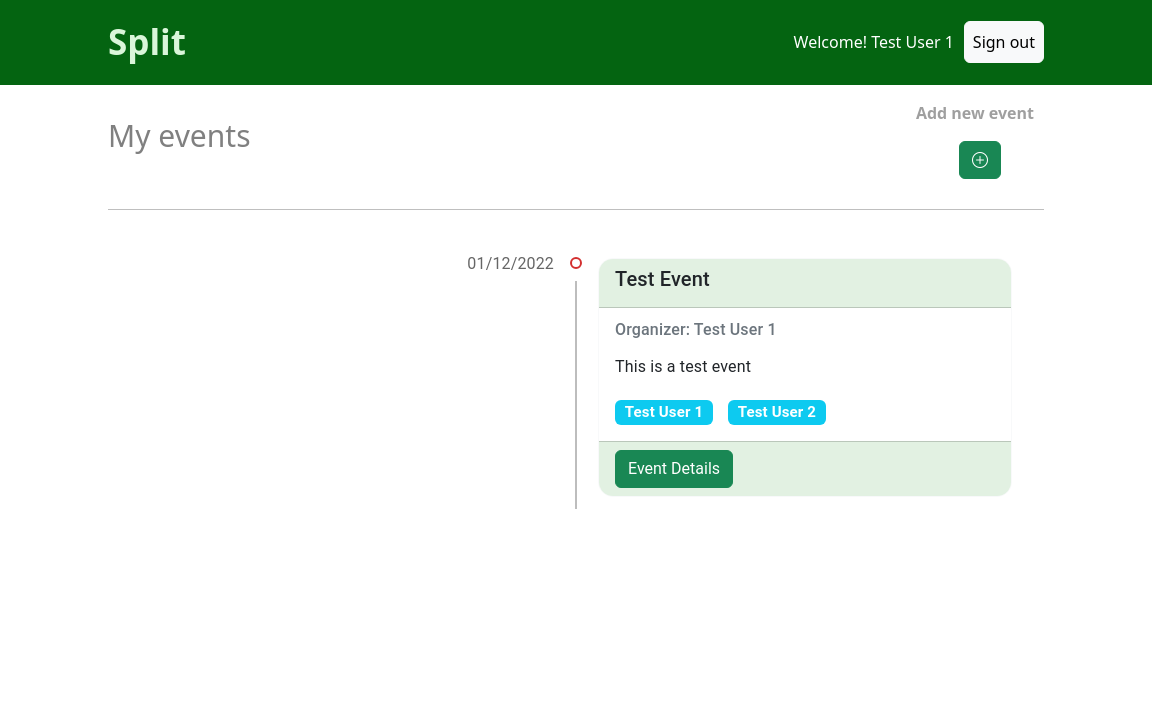
Test case: add event button works? › Given add event modal is open, when the user clicks the save button, the event is added to the database
Click the button with class "bi-plus-circle".
click(980, 160)  # box [959,140,1001,178]
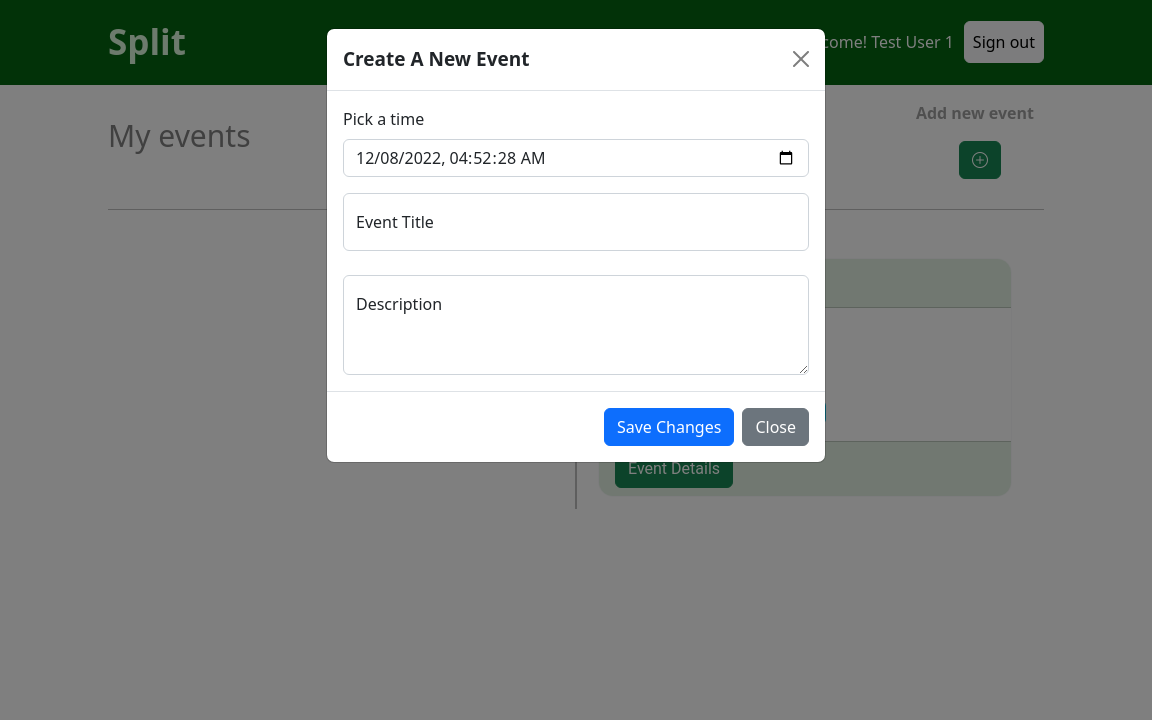
Replace the text in the field with id "deadline" with "2022-12-15T04:13:23" at (576, 158), box [343,138,809,176]
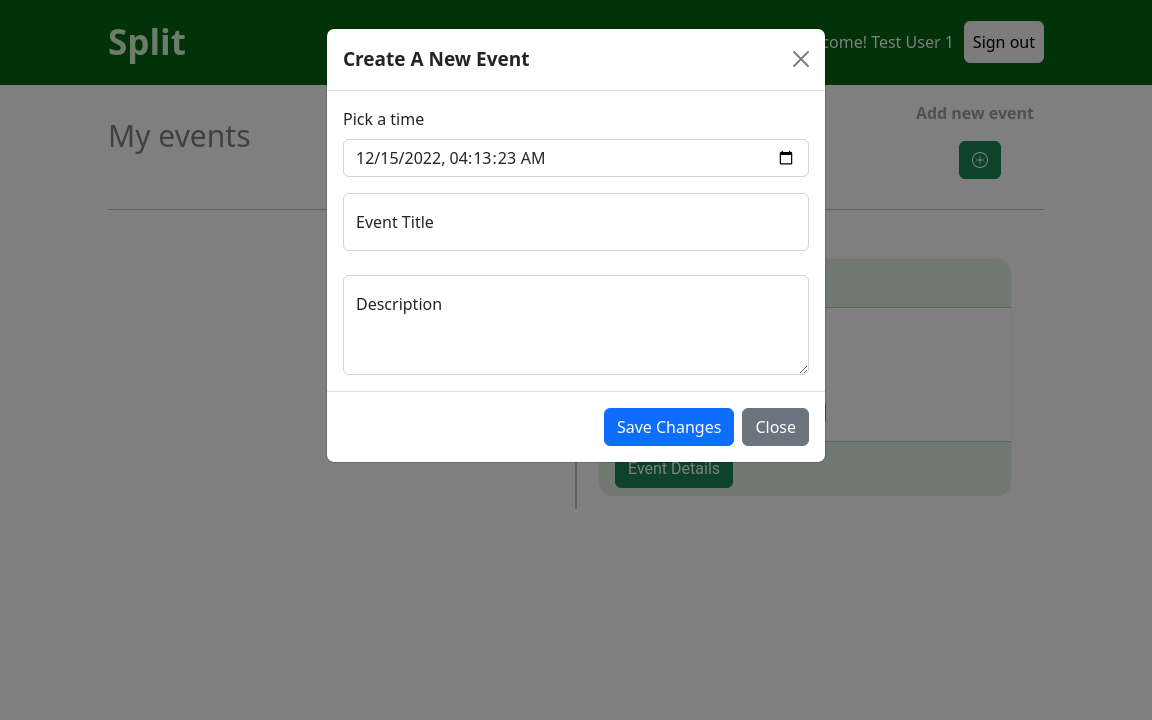
Type "Test Add Event" into the field with placeholder "Event Title".
click(576, 222); type("Test Add Event")  # box [343,192,809,250]
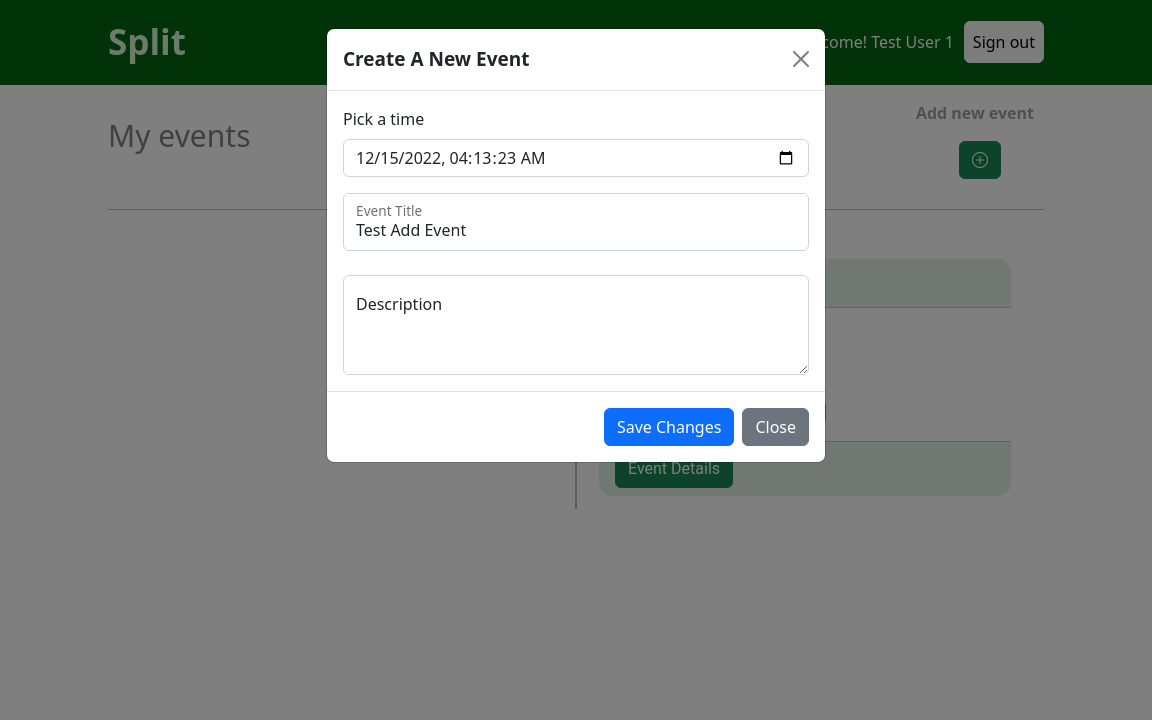
Type "This is a added test event" into the text box with placeholder "Description".
click(576, 324); type("This is a added test event")  # box [343,274,809,374]
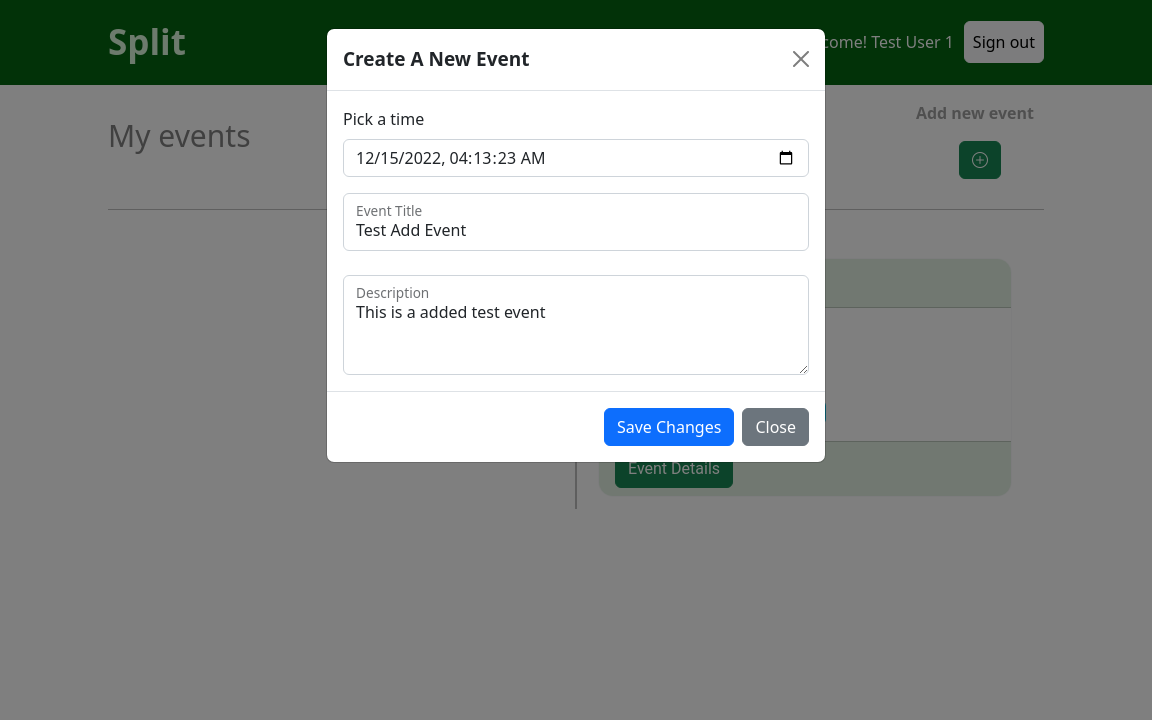
Click the button "Save Changes".
click(669, 426)  # box [604,408,734,446]
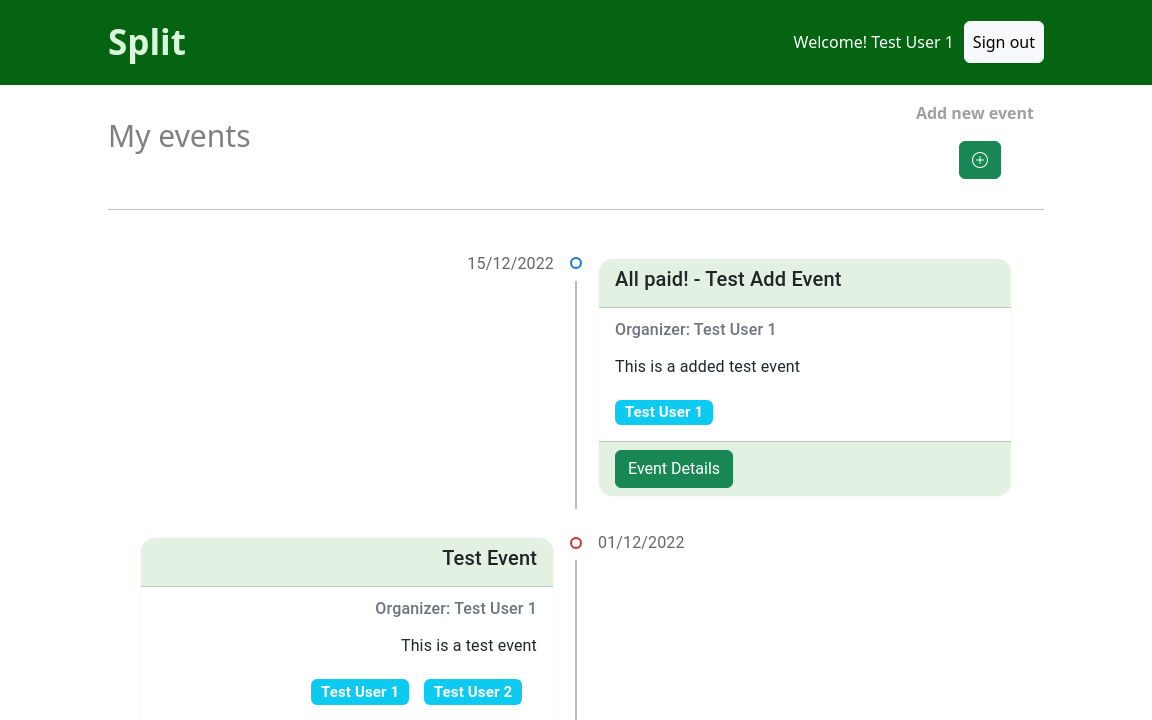
Expected: the text "All paid! - Test Add Event" is shown, [615,266,842,290]
